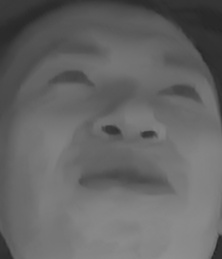eye: (41, 61, 97, 94), (155, 74, 208, 107)
mouth: (73, 149, 181, 208)
